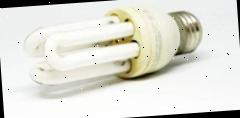lightbulb: (20, 0, 205, 87)
